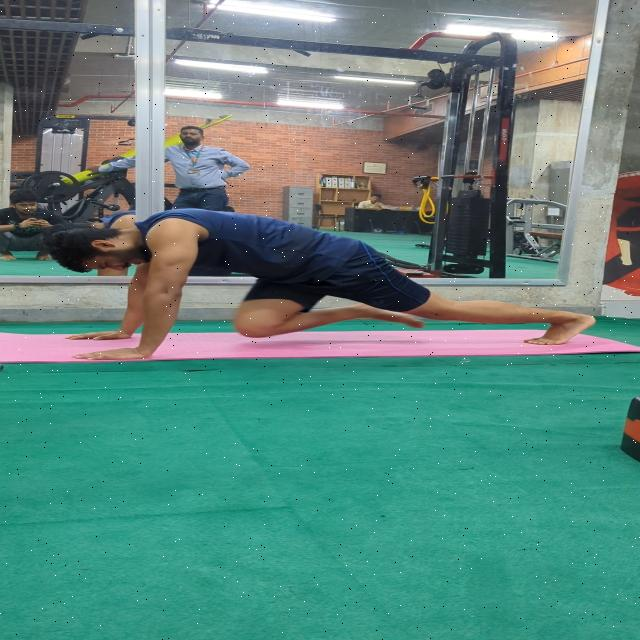Normal_MountainClimbers: (65, 191, 587, 361)
